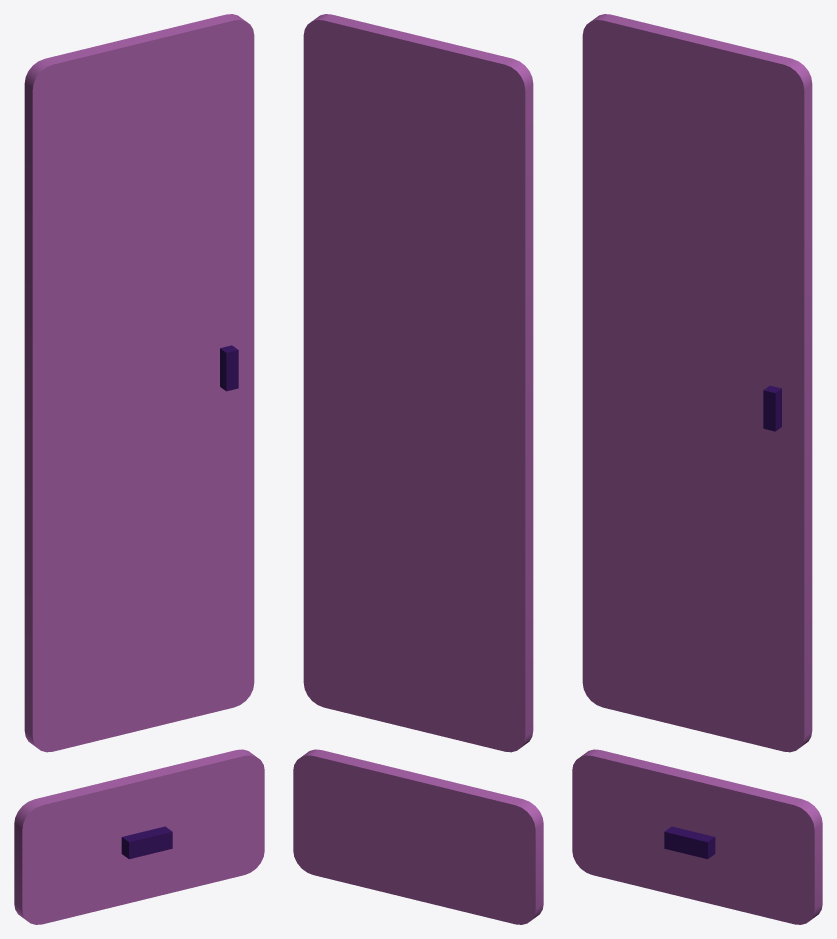
Rendered from Puertas_izq_armario.fbx.
3 renders of one model, left to right at view 1: azimuth 30°, elevation 25°; view 2: azimuth 150°, elevation 25°; view 3: azimuth 330°, elevation 25°, orthographic.
Parts seen in each view (by area): view 1: Puerta01; view 2: Puerta01; view 3: Puerta01.
Part boxes in pixels (x1,y1,x2,y2): Puerta01: (14,14,264,924); Puerta01: (293,14,543,924); Puerta01: (572,14,822,924).
Bounding box in the file's own units: 0.509 × 1.72 × 0.0561.
